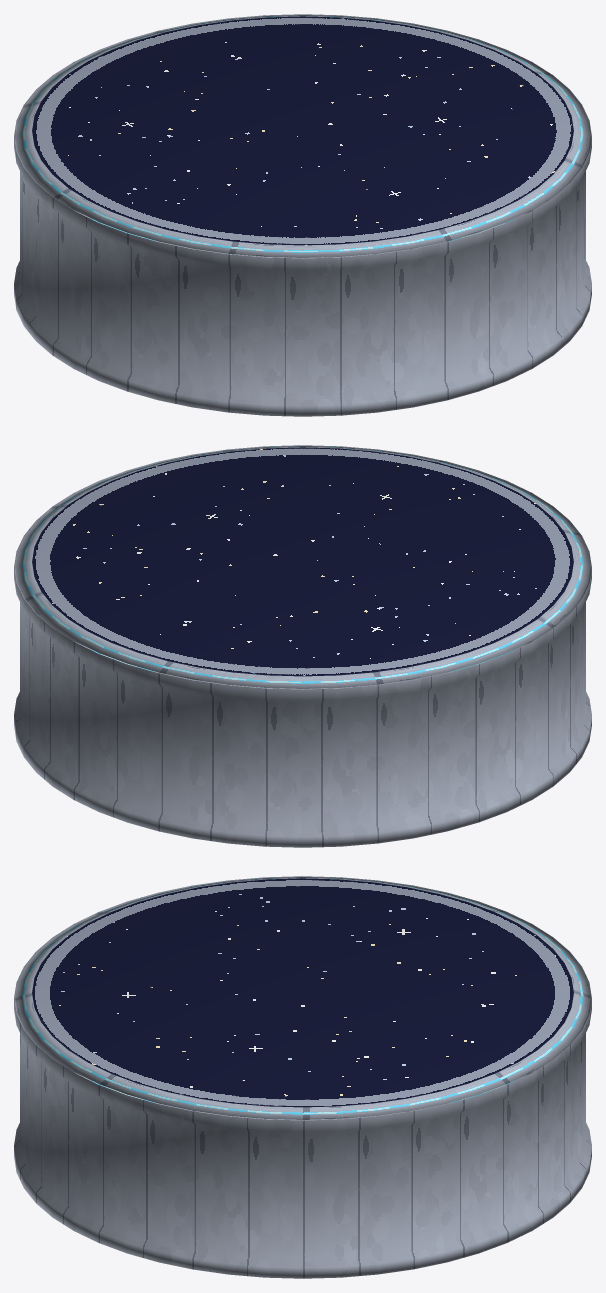
File: pod_base.glb
3 renders of one model, top to bottom at view 1: azimuth 30°, elevation 25°; view 2: azimuth 150°, elevation 25°; view 3: azimuth 270°, elevation 25°, orthographic.
Visible parts, largest first — view 1: lathe; view 2: lathe; view 3: lathe.
Part boxes in pixels (box(x1,y1,x2,y2)): lathe: box(14, 14, 591, 416); lathe: box(14, 445, 591, 847); lathe: box(14, 876, 591, 1278).
Bounding box in the file's own units: 0.96 × 0.3 × 0.96.
2 materials, 2 textured.
